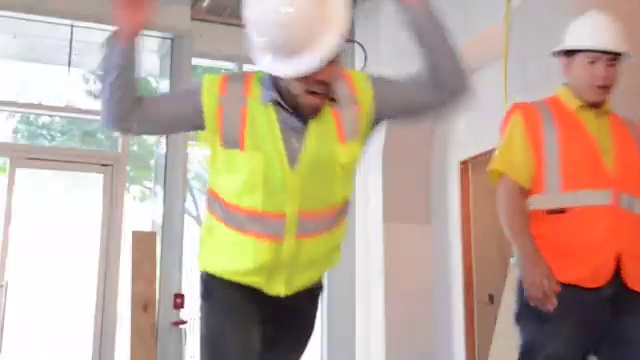helmet: (545, 6, 640, 58)
jacket: (198, 62, 364, 305), (499, 87, 640, 306)
